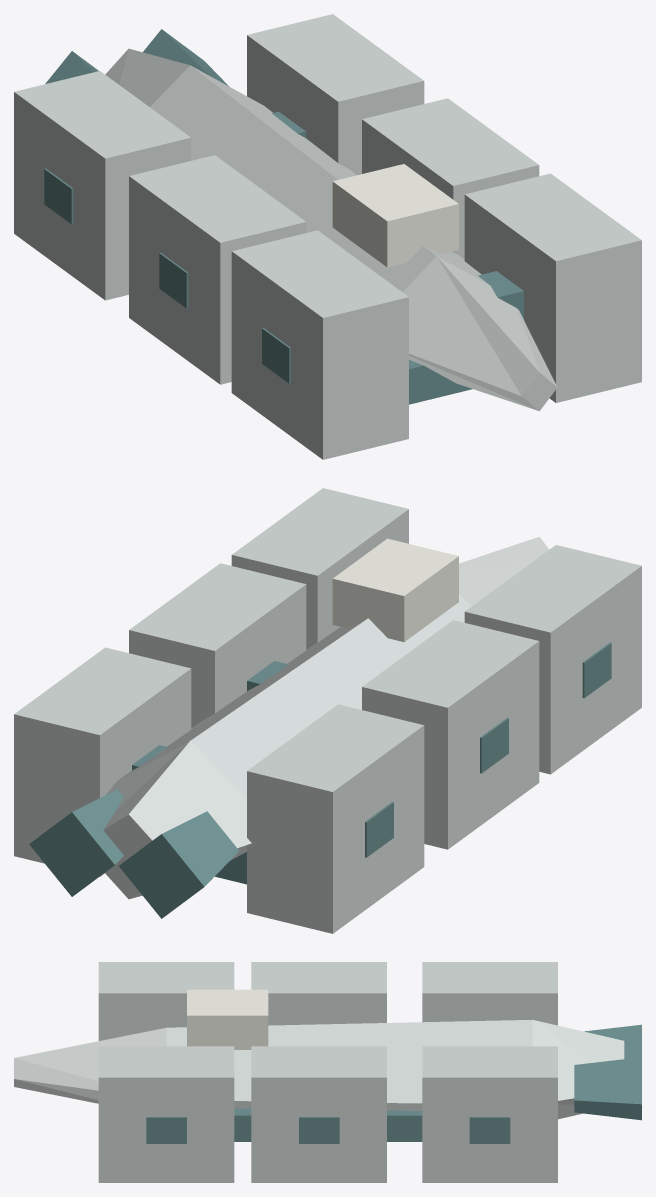
3 views of the same model, one above another, from view 1: azimuth 30°, elevation 25°; view 2: azimuth 150°, elevation 25°; view 3: azimuth 270°, elevation 25° (orthographic). The views are drawn at different scales.
Size of the model in its own units: 4 by 1.95 by 9.07.
